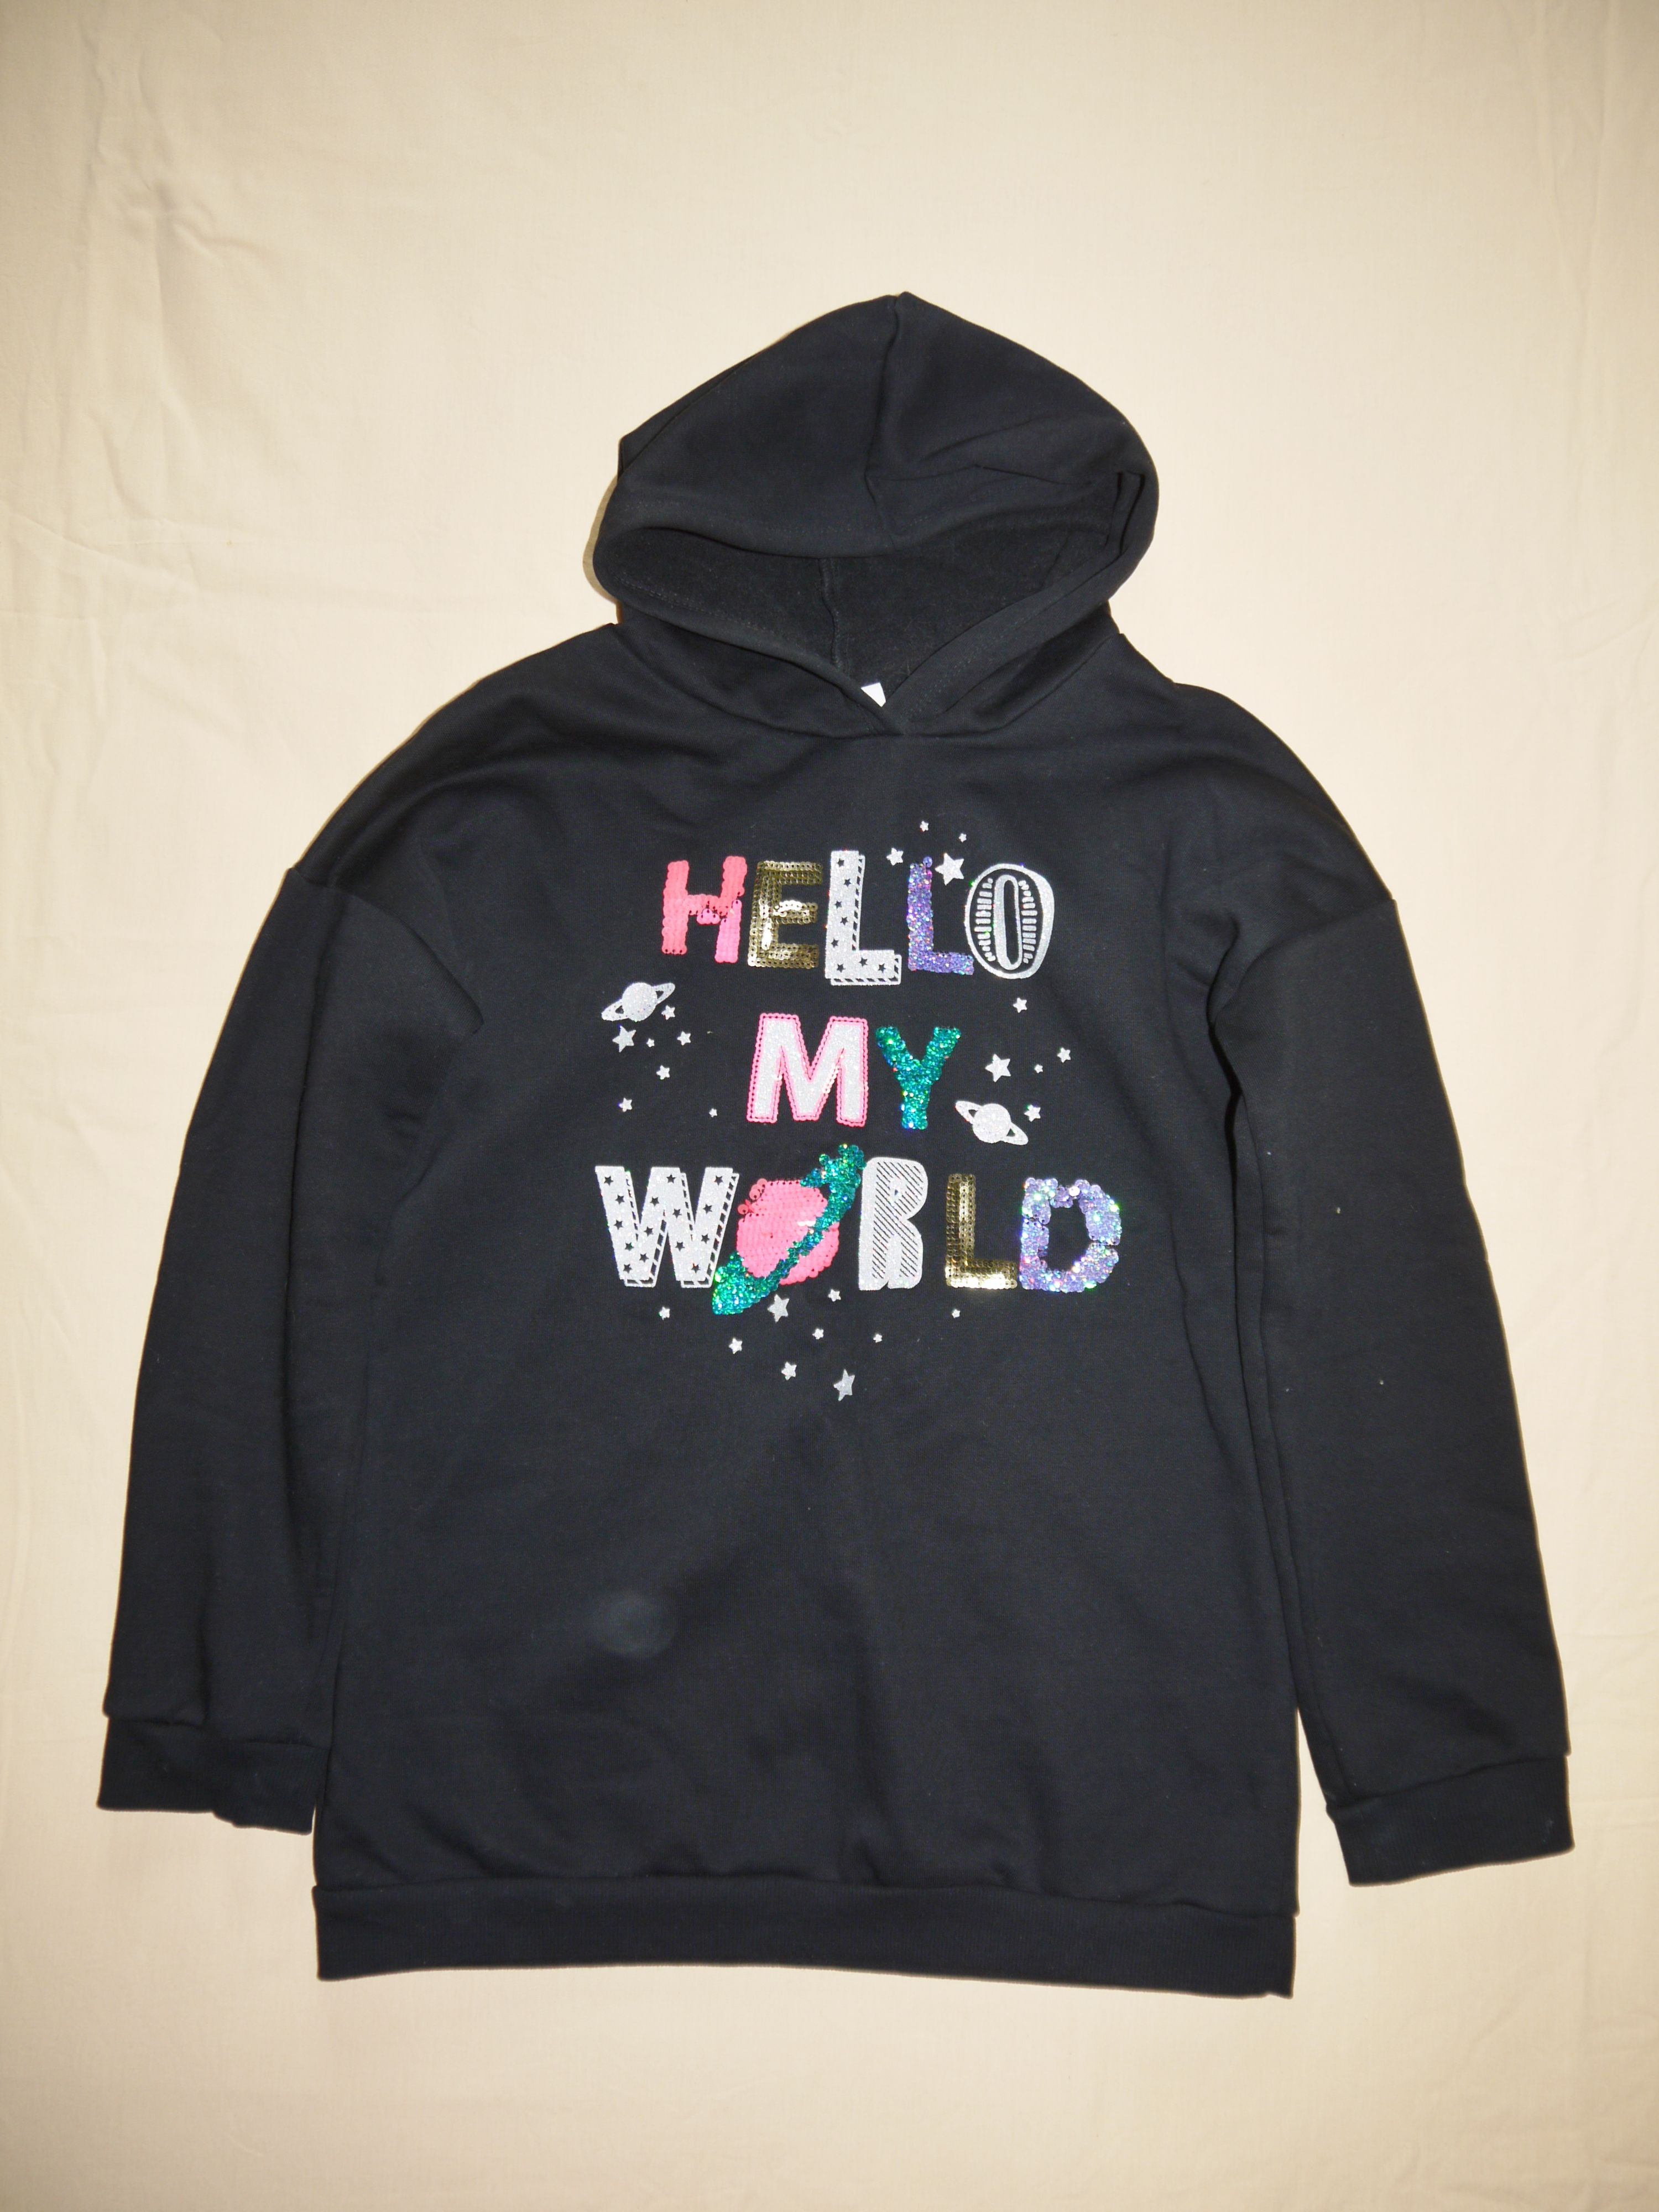clothes: (61, 249, 1575, 1975)
